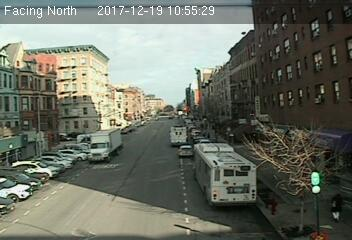bus: (191, 141, 258, 210)
car: (179, 145, 192, 156)
truck: (89, 128, 120, 159), (170, 125, 187, 147)
